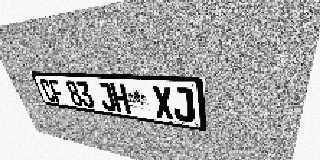3: (75, 81, 95, 108)
8: (64, 80, 84, 107)
C: (39, 79, 57, 102)
F: (47, 79, 66, 104)
H: (109, 83, 131, 114)
J: (171, 87, 195, 123), (96, 82, 117, 111)
X: (151, 86, 175, 120)
